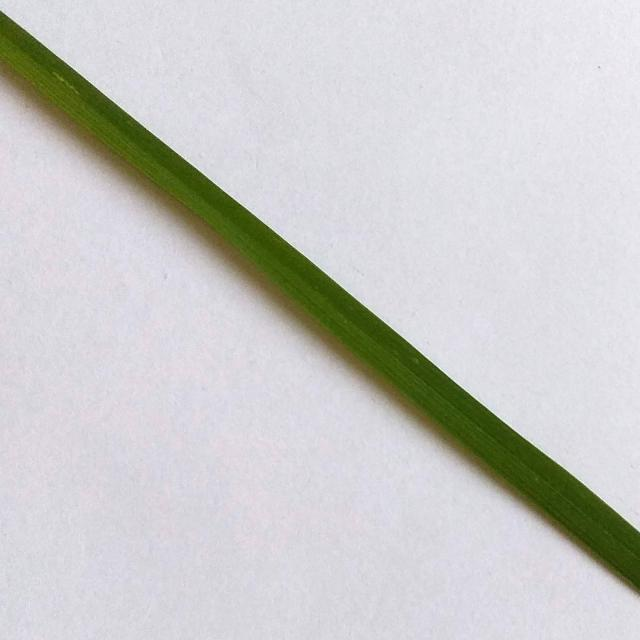healthy: (0, 7, 640, 591)
